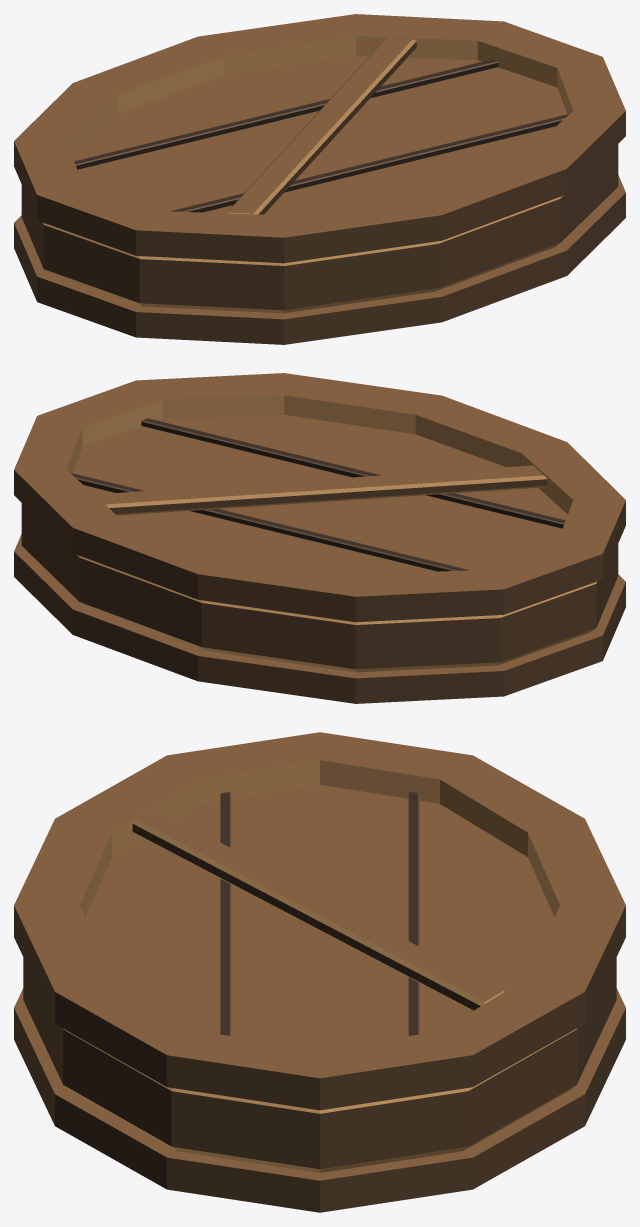
The model's file is wood_shield.fbx.
The picture shows the model from 3 angles, top to bottom: view 1: azimuth 30°, elevation 25°; view 2: azimuth 150°, elevation 25°; view 3: azimuth 270°, elevation 25°; orthographic projection. The views are drawn at different scales.
Parts seen in each view (by area): view 1: wood_shield; view 2: wood_shield; view 3: wood_shield.
Part boxes in pixels (x1,y1,x2,y2): wood_shield: (14, 14, 625, 344); wood_shield: (14, 373, 625, 703); wood_shield: (14, 732, 625, 1212).
Bounding box in the file's own units: 1.74 × 0.315 × 1.3.
1 material, 1 textured.
